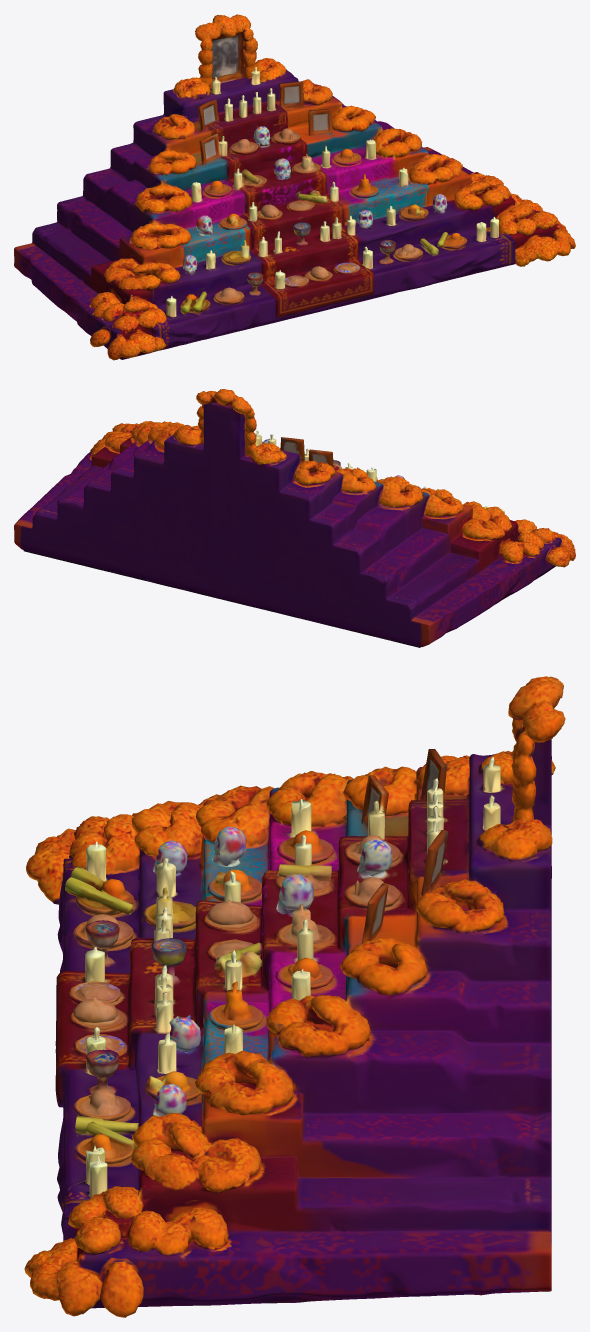
The model's file is ofrenda2.obj.
The picture shows the model from 3 angles, top to bottom: view 1: azimuth 30°, elevation 25°; view 2: azimuth 150°, elevation 25°; view 3: azimuth 270°, elevation 25°; orthographic projection. The views are drawn at different scales.
Parts seen in each view (by area): view 1: tripo_node_95424d81-2dc7-43f4-b597-e6cdd6367d80; view 2: tripo_node_95424d81-2dc7-43f4-b597-e6cdd6367d80; view 3: tripo_node_95424d81-2dc7-43f4-b597-e6cdd6367d80.
Boxes of the visible parts, <box> form: tripo_node_95424d81-2dc7-43f4-b597-e6cdd6367d80: <box>14,14,575,360</box>; tripo_node_95424d81-2dc7-43f4-b597-e6cdd6367d80: <box>14,389,575,647</box>; tripo_node_95424d81-2dc7-43f4-b597-e6cdd6367d80: <box>24,676,565,1317</box>.
Size of the model in its own units: 0.9804 by 0.409 by 0.483.
1 material, 1 textured.
